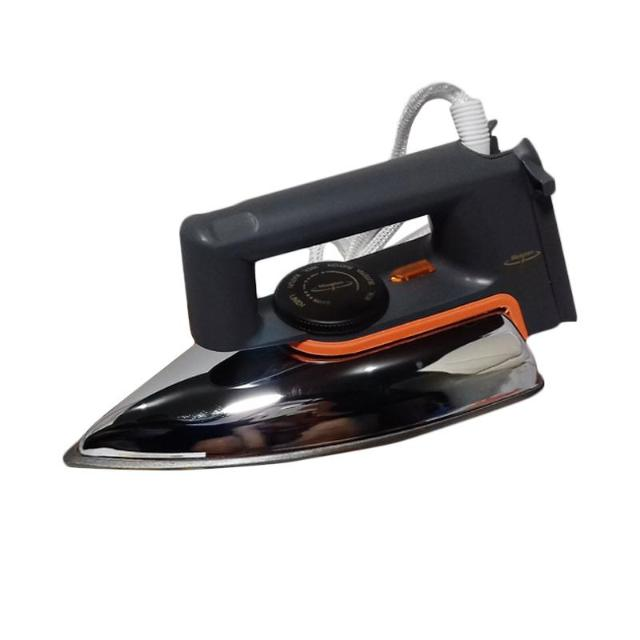Clothes-Iron: (90, 106, 564, 458)
